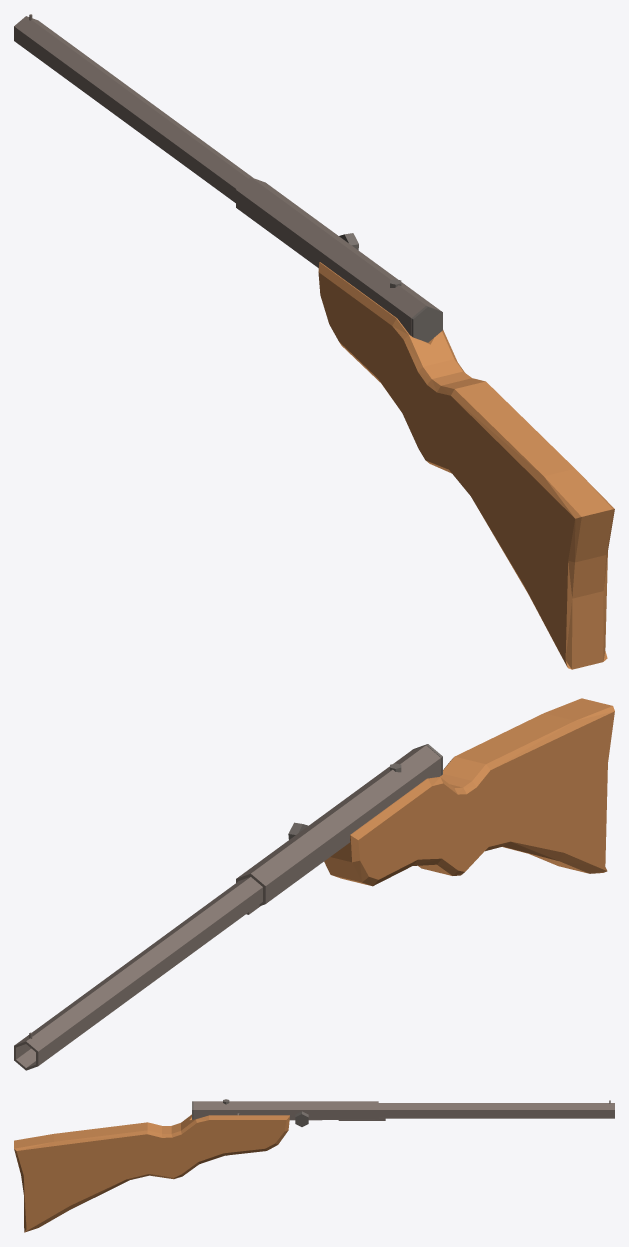
The model's file is sumpak.glb.
The picture shows the model from 3 angles, top to bottom: view 1: azimuth 30°, elevation 25°; view 2: azimuth 150°, elevation 25°; view 3: azimuth 270°, elevation 25°; orthographic projection. The views are drawn at different scales.
Parts seen in each view (by area): view 1: body, barrel; view 2: body, barrel; view 3: body, barrel.
Part boxes in pixels (x1,y1,x2,y2): body: (17, 23, 614, 669); barrel: (14, 14, 252, 193); body: (30, 698, 614, 1064); barrel: (14, 877, 262, 1070); body: (14, 1099, 612, 1232); barrel: (378, 1100, 614, 1118).
Size of the model in its own units: 0.0475 by 0.2234 by 0.95.
